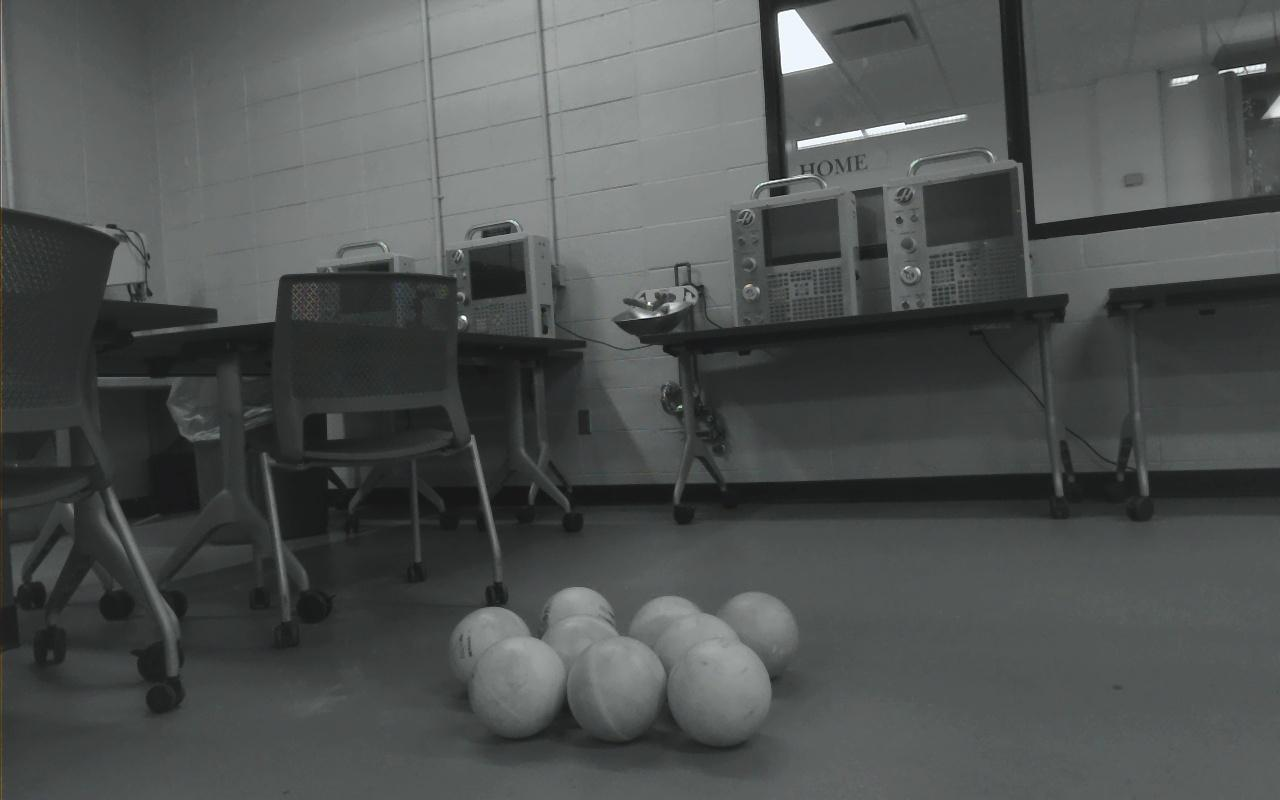Fuel: (667, 636, 772, 746), (566, 635, 667, 741), (468, 634, 567, 738), (652, 612, 741, 700), (714, 591, 799, 679), (447, 606, 531, 694), (539, 614, 621, 703), (539, 586, 617, 664), (628, 595, 705, 674)
